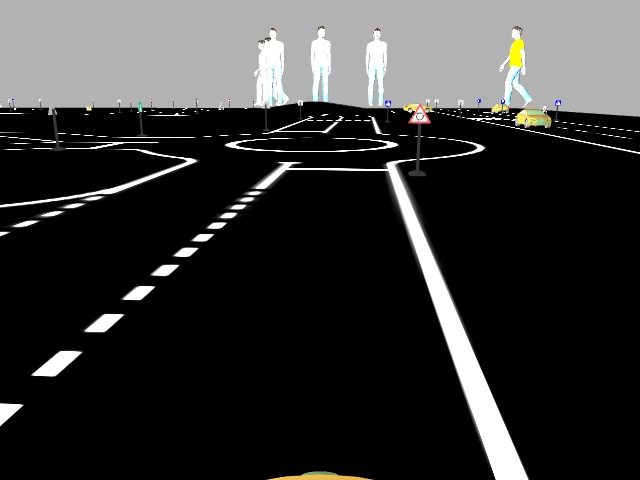Roundabout: (405, 101, 431, 126)
